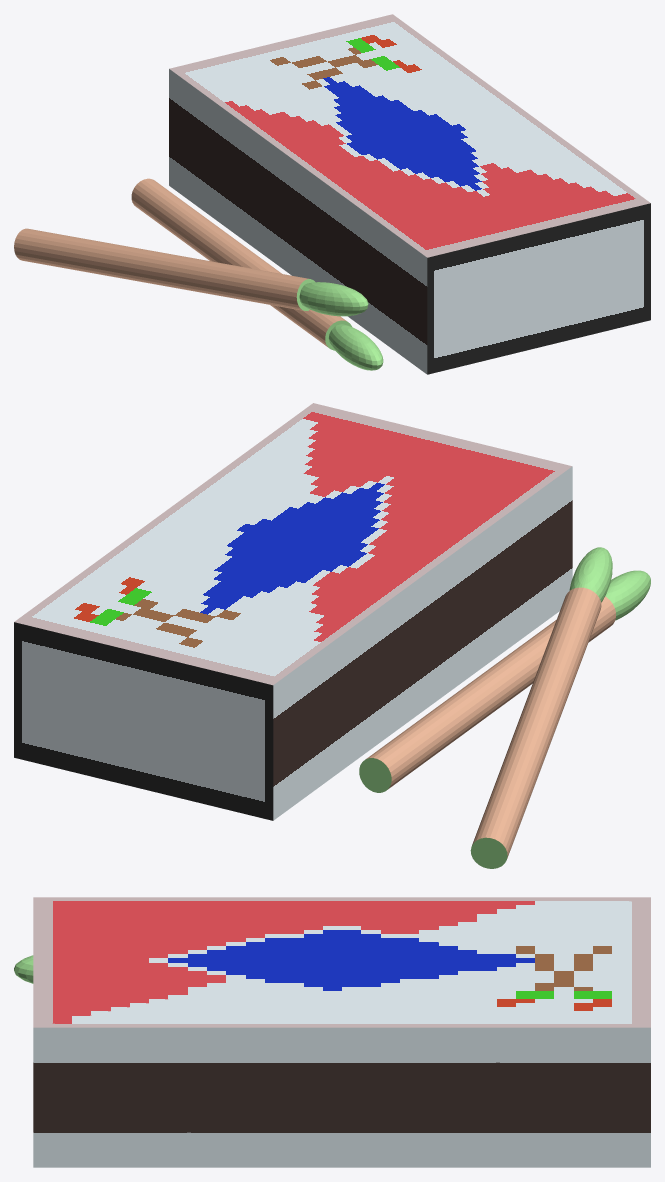
Rendered from MatchBox.gltf.
3 views of the same model, one above another, from view 1: azimuth 30°, elevation 25°; view 2: azimuth 150°, elevation 25°; view 3: azimuth 270°, elevation 25° (orthographic). The views are drawn at different scales.
Parts seen in each view (by area): view 1: group, cylinder (×2), sphere (×2); view 2: group, cylinder (×2), sphere (×2); view 3: group, sphere.
Boxes of the visible parts, left/top/right/bottom form: group: left=169, top=14, right=650, bottom=374; cylinder (×2): left=14, top=178, right=351, bottom=350; sphere (×2): left=299, top=282, right=383, bottom=370; group: left=14, top=403, right=572, bottom=820; cylinder (×2): left=359, top=587, right=615, bottom=868; sphere (×2): left=569, top=547, right=650, bottom=620; group: left=33, top=897, right=650, bottom=1167; sphere: left=14, top=955, right=33, bottom=983.
Size of the model in its own units: 0.4496 by 0.1439 by 0.5156.
2 materials, 2 textured.
